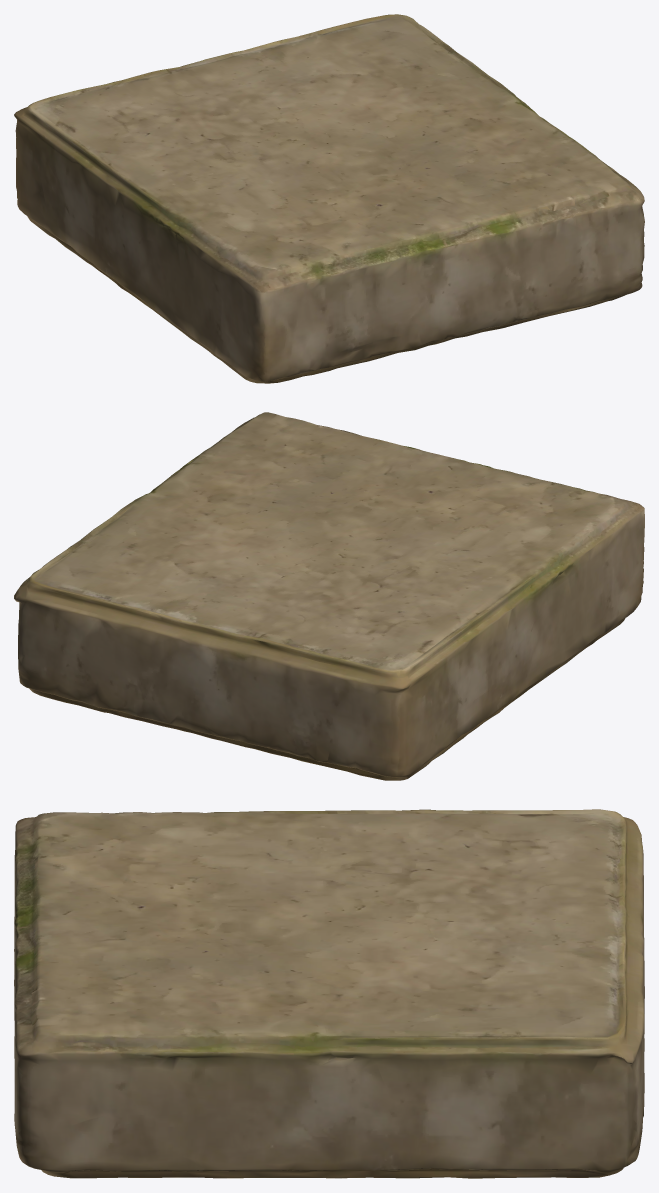
The model's file is gach.glb.
3 renders of one model, top to bottom at view 1: azimuth 30°, elevation 25°; view 2: azimuth 150°, elevation 25°; view 3: azimuth 270°, elevation 25°, orthographic. The views are drawn at different scales.
Parts seen in each view (by area): view 1: model_LOD4; view 2: model_LOD4; view 3: model_LOD4.
Part boxes in pixels (x1=…): model_LOD4: x1=14, y1=14, x2=644, y2=383; model_LOD4: x1=14, y1=412, x2=644, y2=780; model_LOD4: x1=14, y1=809, x2=644, y2=1178.
Bounding box in the file's own units: 1.71 × 0.4803 × 1.9.
Materials: 1 (1 with a texture image).
